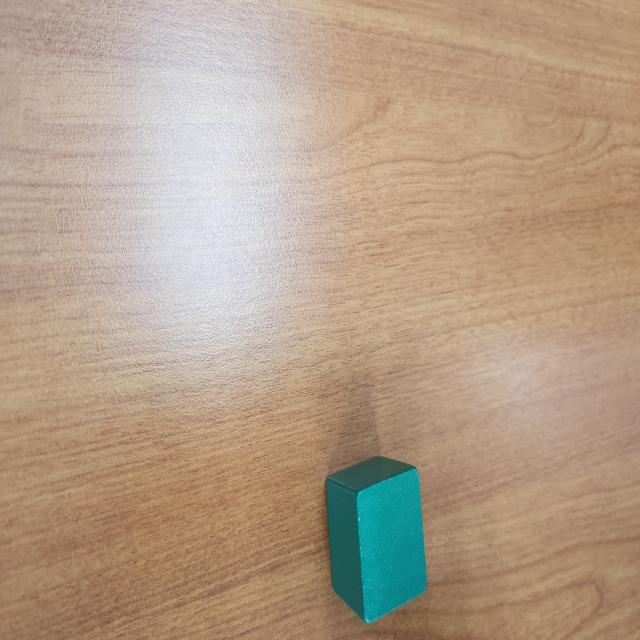green: (323, 454, 428, 625)
